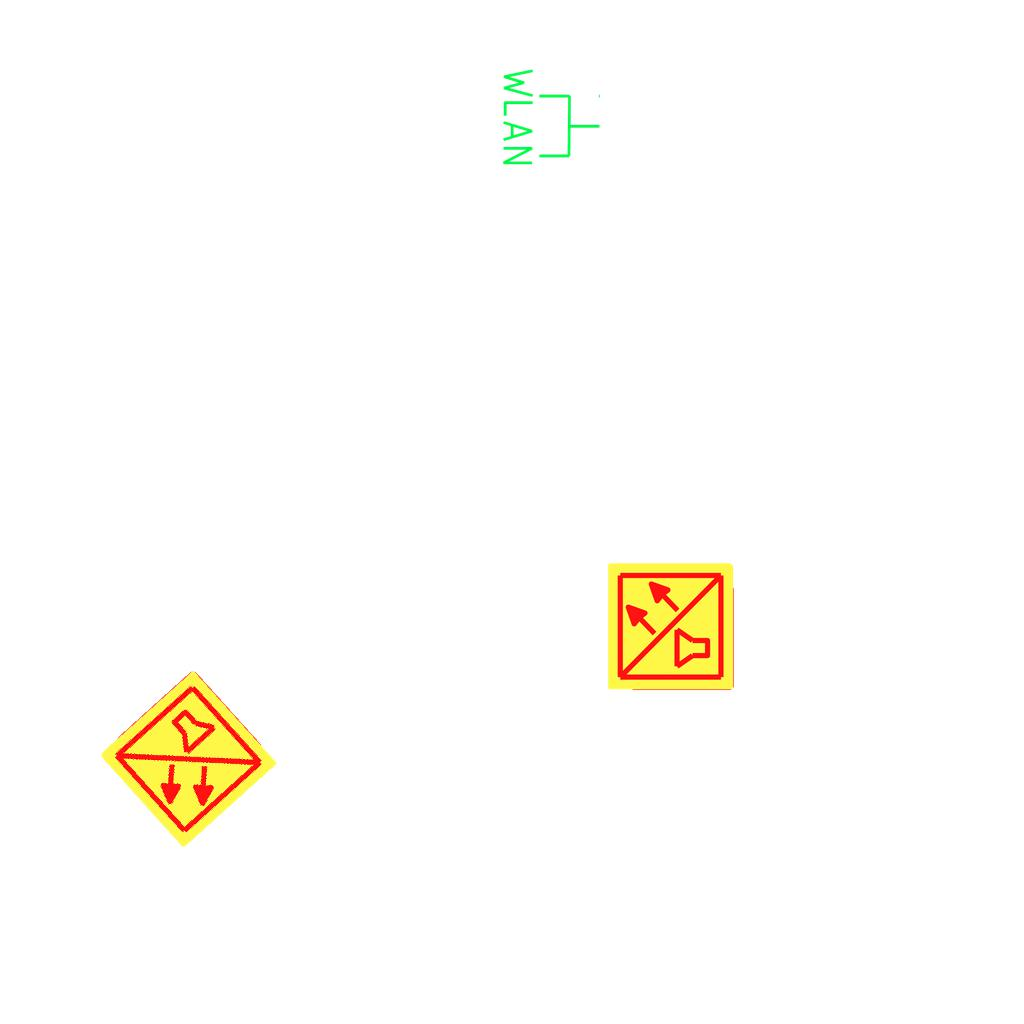OKW_Multisensormelder_(Kombination_optischer_Rauch-Kahlenmonoxid_Waerme-Melder): (94, 665, 282, 853), (605, 560, 737, 692)
WLAN: (499, 64, 603, 169)
